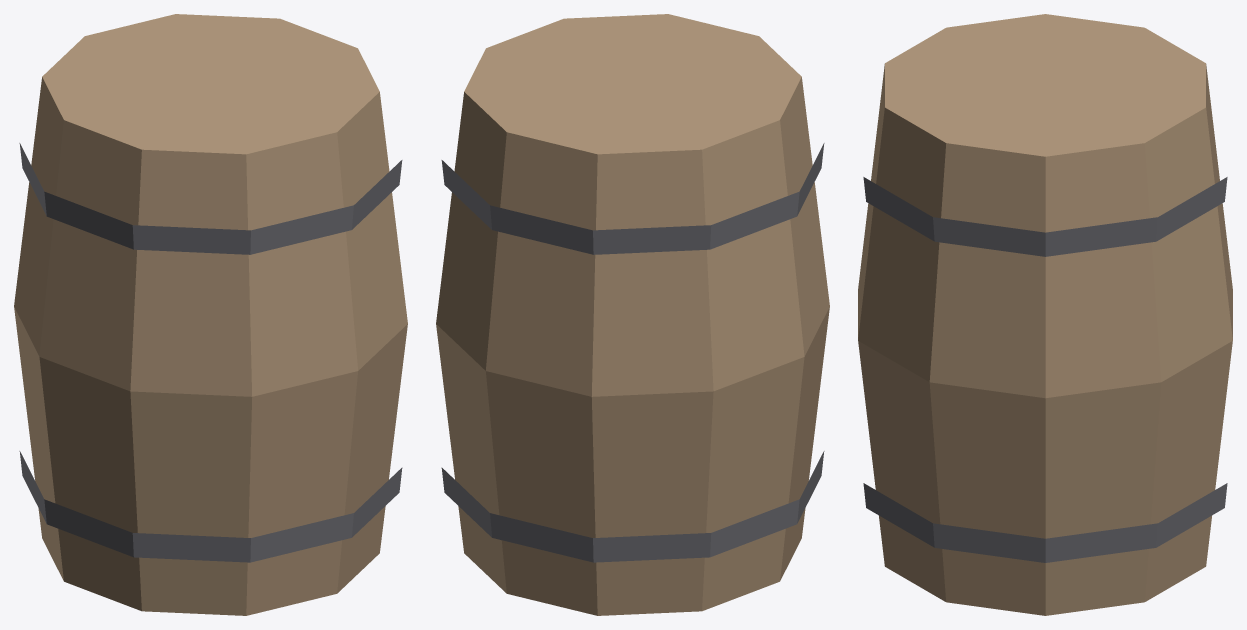
Rendered from barrel.glb.
3 views of the same model, side by side, from view 1: azimuth 30°, elevation 25°; view 2: azimuth 150°, elevation 25°; view 3: azimuth 270°, elevation 25° (orthographic).
Parts seen in each view (by area): view 1: barrel; view 2: barrel; view 3: barrel.
Part boxes in pixels (<box>): barrel: <box>14,14,407,615</box>; barrel: <box>436,14,829,615</box>; barrel: <box>858,14,1232,615</box>.
Size of the model in its own units: 0.7 by 0.9 by 0.6657.
